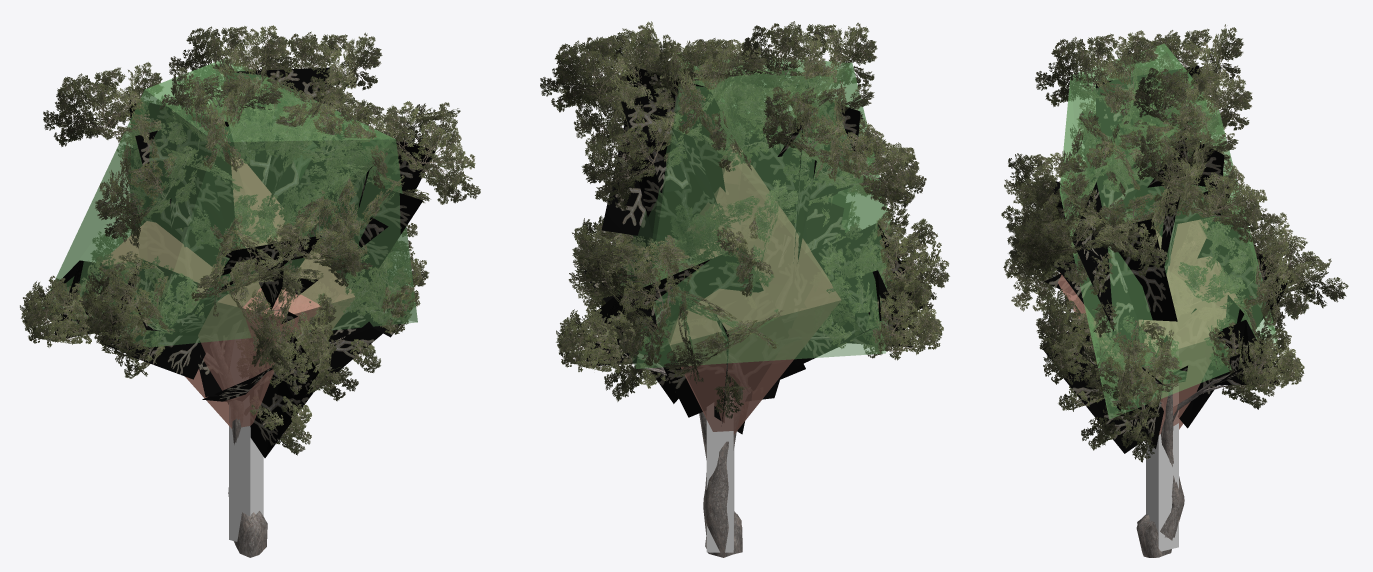
File: cork_oak_medium.dae
3 renders of one model, left to right at view 1: azimuth 30°, elevation 25°; view 2: azimuth 150°, elevation 25°; view 3: azimuth 270°, elevation 25°, orthographic. The views are drawn at different scales.
Visible parts, largest first — view 1: cork_oak_medium_a1600, cork_oak_medium_a300, Colmesh-1; view 2: cork_oak_medium_a300, cork_oak_medium_a1600, Colmesh-1; view 3: cork_oak_medium_a1600, cork_oak_medium_a300, Colmesh-1.
Boxes of the visible parts, x1,y1,x2,y2 form: cork_oak_medium_a1600: (20, 26, 480, 557); cork_oak_medium_a300: (21, 25, 480, 553); Colmesh-1: (42, 58, 417, 541); cork_oak_medium_a300: (540, 21, 949, 557); cork_oak_medium_a1600: (540, 21, 949, 557); Colmesh-1: (612, 52, 899, 552); cork_oak_medium_a1600: (1001, 29, 1346, 557); cork_oak_medium_a300: (1001, 24, 1348, 557); Colmesh-1: (1058, 43, 1279, 551).
Size of the model in its own units: 9.41 by 7.63 by 11.2.
